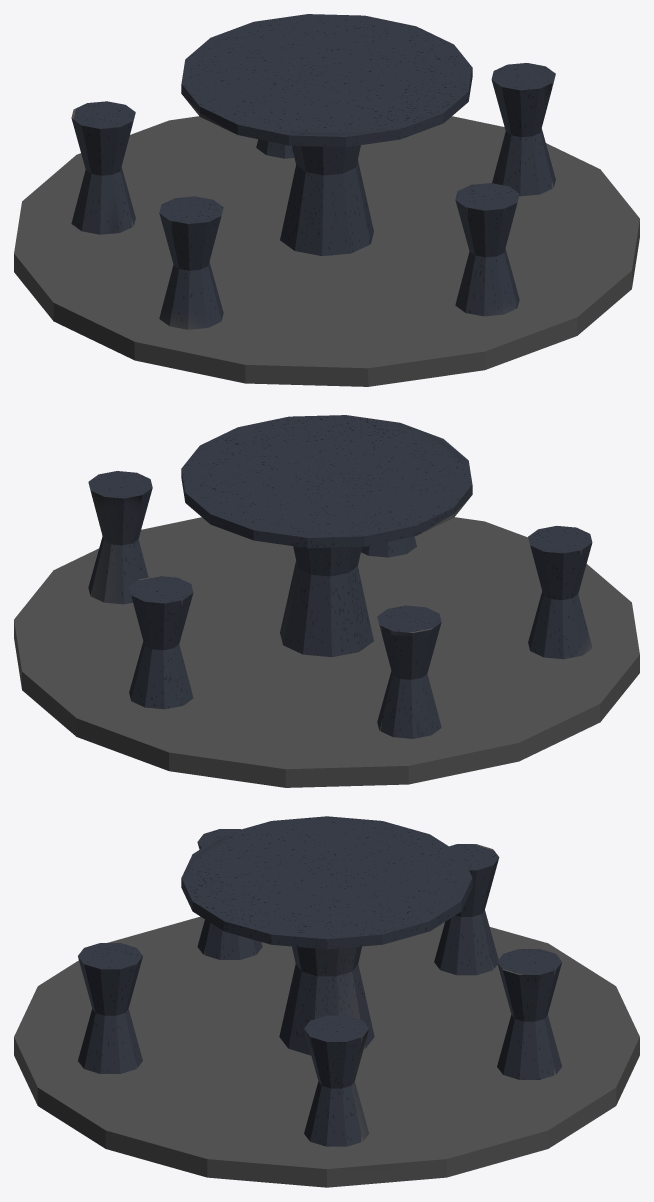
File: Kursi meja 2.fbx
3 renders of one model, top to bottom at view 1: azimuth 30°, elevation 25°; view 2: azimuth 150°, elevation 25°; view 3: azimuth 270°, elevation 25°, orthographic.
Parts seen in each view (by area): view 1: Kursi dan meja; view 2: Kursi dan meja; view 3: Kursi dan meja.
Part boxes in pixels (box(x1,y1,x2,y2)): Kursi dan meja: box(14, 14, 639, 386); Kursi dan meja: box(14, 415, 639, 787); Kursi dan meja: box(14, 816, 639, 1187).
Size of the model in its own units: 200 by 62.62 by 200.
